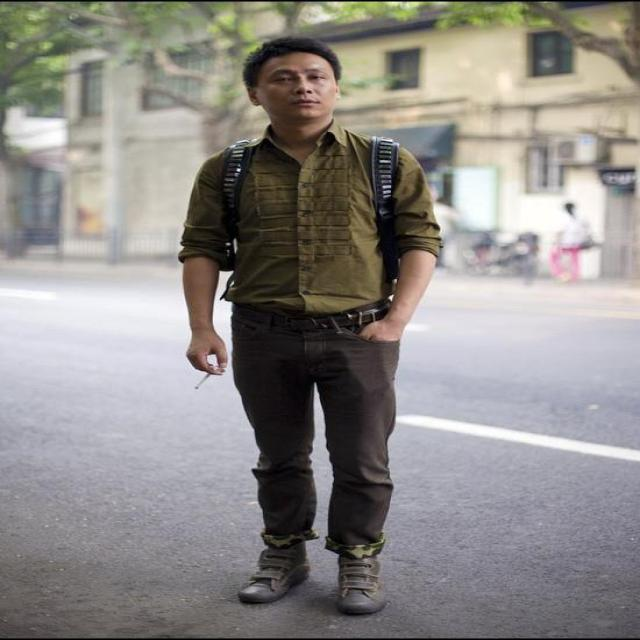pants: (230, 301, 402, 554)
shirt: (180, 117, 442, 311)
